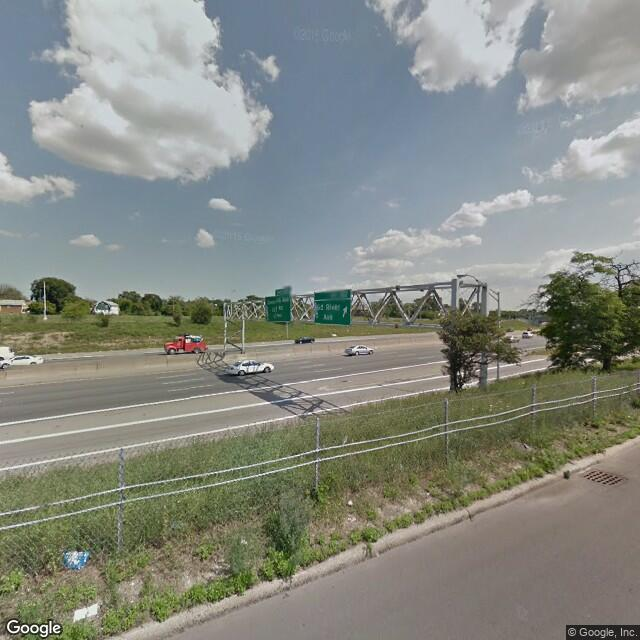litter: (69, 603, 105, 622), (59, 549, 89, 570), (563, 469, 572, 480), (347, 500, 353, 506)
